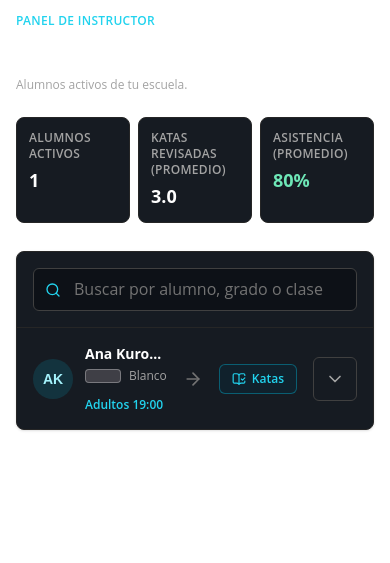
Test case: T1 · detalles del alumno en móvil (instructor) › despliega katas, asistencia y clases sin enlazar al panel de admin
This screenshot has width=390, height=563.
Click the button named "Mostrar detalles de Ana Kurosawa" at (335, 379), box [313,357,357,401]
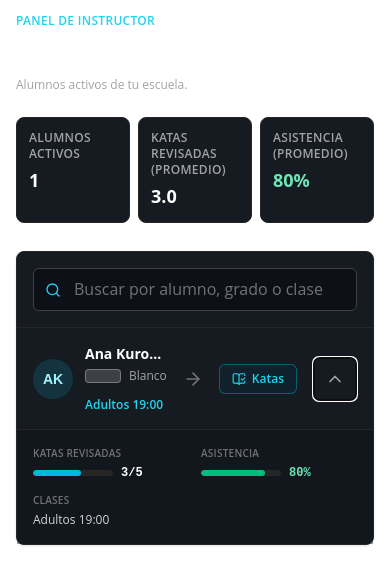
Expected: the button named "Mostrar detalles de Ana Kurosawa" is expanded, [313,357,357,401]
Expected: the text "Katas revisadas" is shown, [33,446,121,460]
Expected: the text "3/5" is shown, [121,465,143,481]
